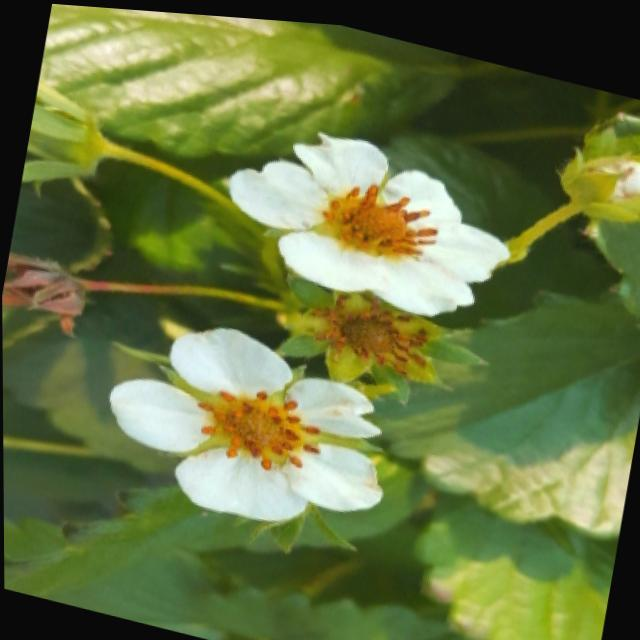Blossom Blight: (195, 380, 324, 469), (321, 173, 441, 254), (328, 299, 429, 366)
